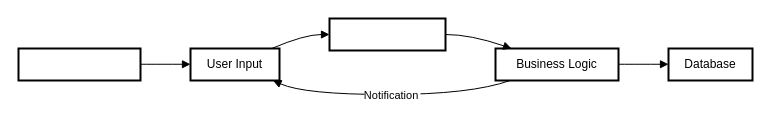
This 770x118 diagram has some shape labels left out. Here are the shapes that lost their labels. From the top down, the centre of each, then its label:
[387,34]: API Endpoints
[79,64]: Library System
